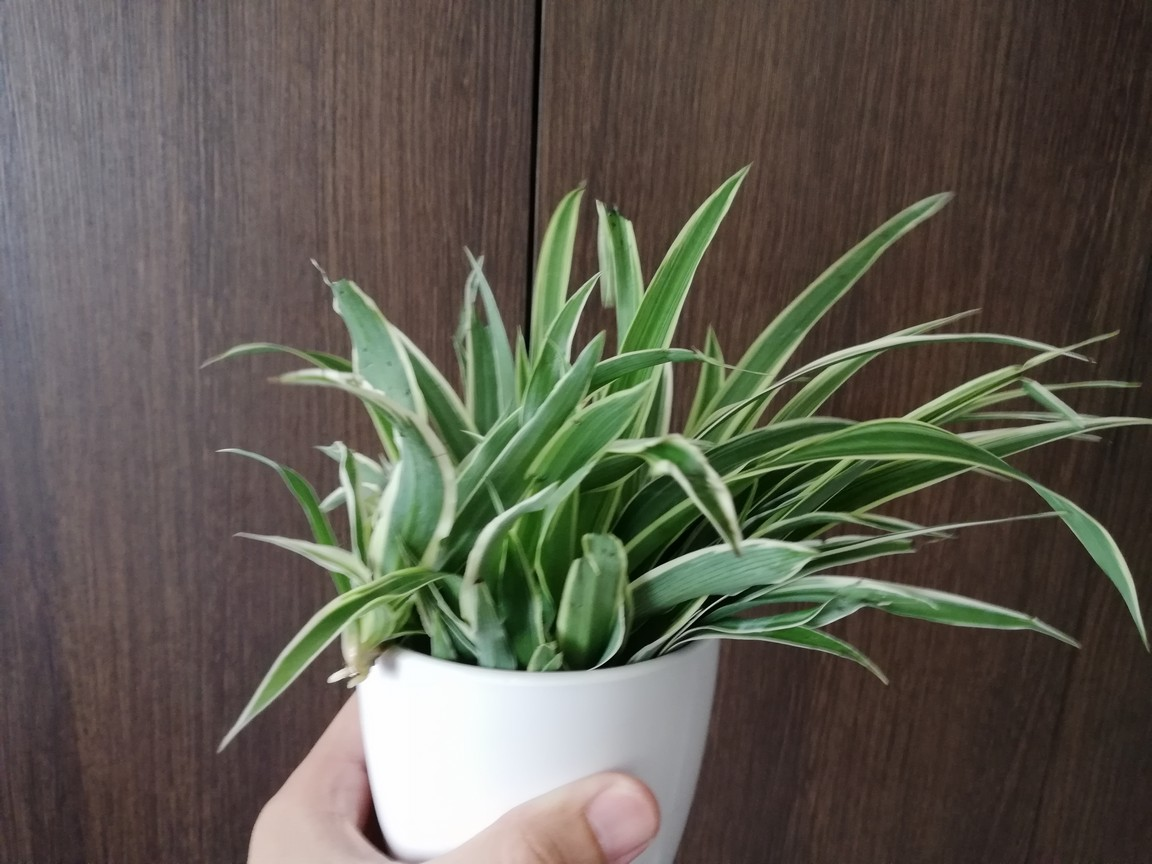daun: (762, 185, 960, 312), (212, 593, 338, 759), (650, 159, 760, 311), (952, 583, 1091, 651), (211, 439, 314, 526), (888, 327, 1098, 366), (513, 172, 583, 275), (226, 519, 334, 578), (810, 632, 893, 686), (194, 341, 334, 368), (563, 318, 615, 390), (875, 303, 992, 334), (550, 269, 609, 328), (273, 368, 358, 403), (697, 323, 727, 401), (509, 320, 531, 393)
